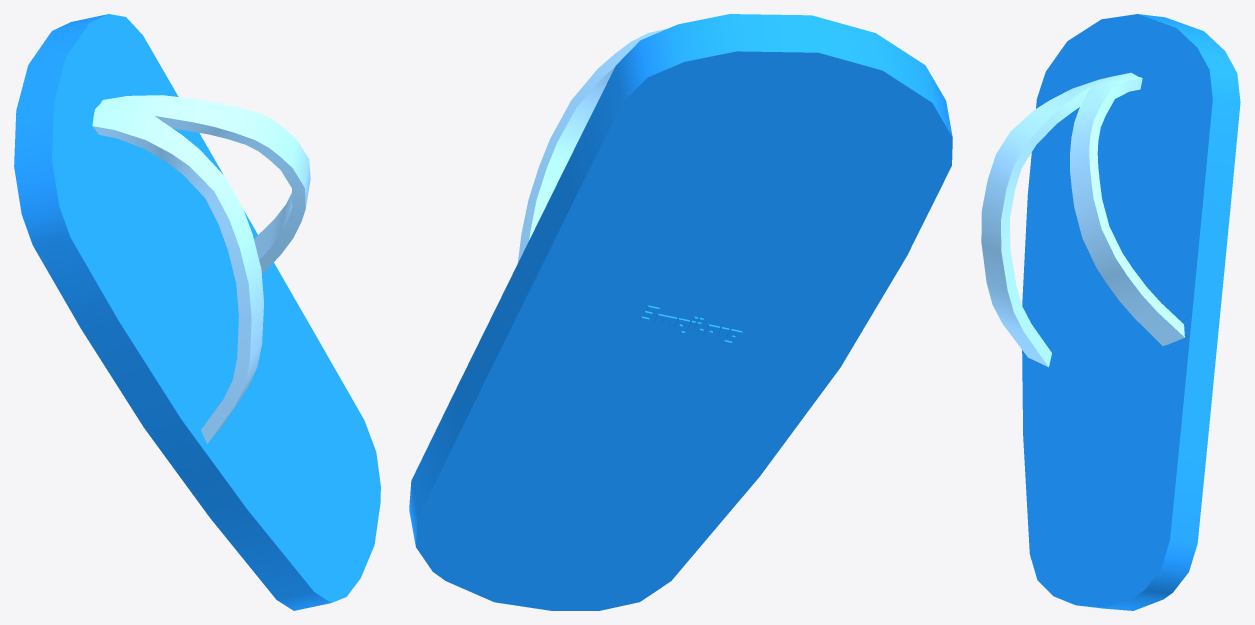
File: thong_sandal.gltf
3 renders of one model, left to right at view 1: azimuth 30°, elevation 25°; view 2: azimuth 150°, elevation 25°; view 3: azimuth 270°, elevation 25°, orthographic. The views are drawn at different scales.
Parts seen in each view (by area): view 1: Cube.6116; view 2: Cube.6116; view 3: Cube.6116.
Part boxes in pixels (x1,y1,x2,y2): Cube.6116: (14, 14, 380, 610); Cube.6116: (409, 14, 952, 610); Cube.6116: (981, 14, 1240, 610).
Bounding box in the file's own units: 1.64 × 2.25 × 1.05.
1 material, 1 textured.
